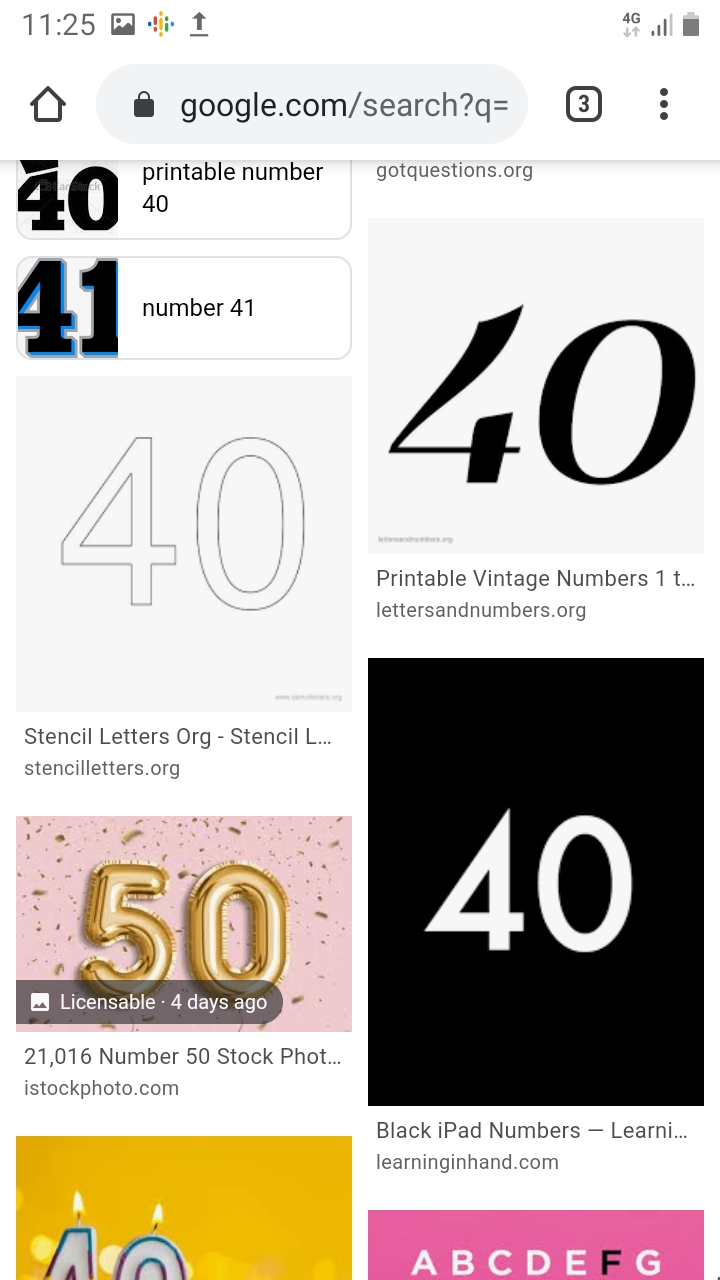40 kph: (378, 265, 719, 506), (47, 423, 347, 631), (419, 790, 682, 1004)
